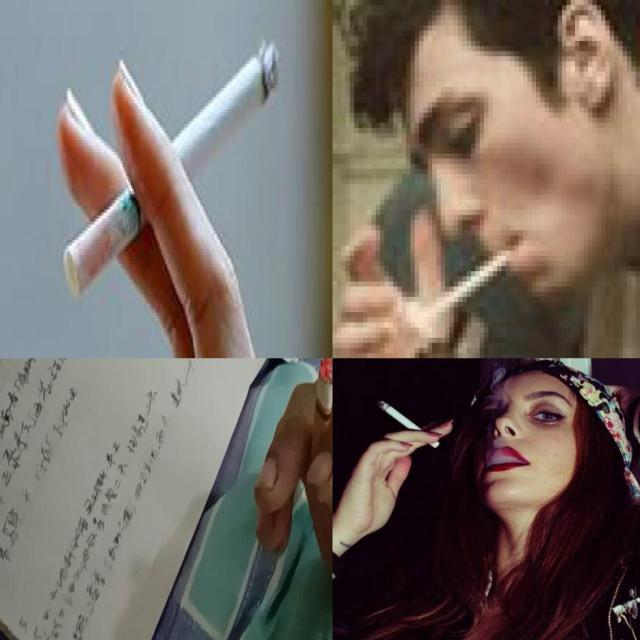smoking: (64, 40, 278, 302), (410, 235, 532, 328), (370, 398, 440, 451), (308, 358, 332, 476)
